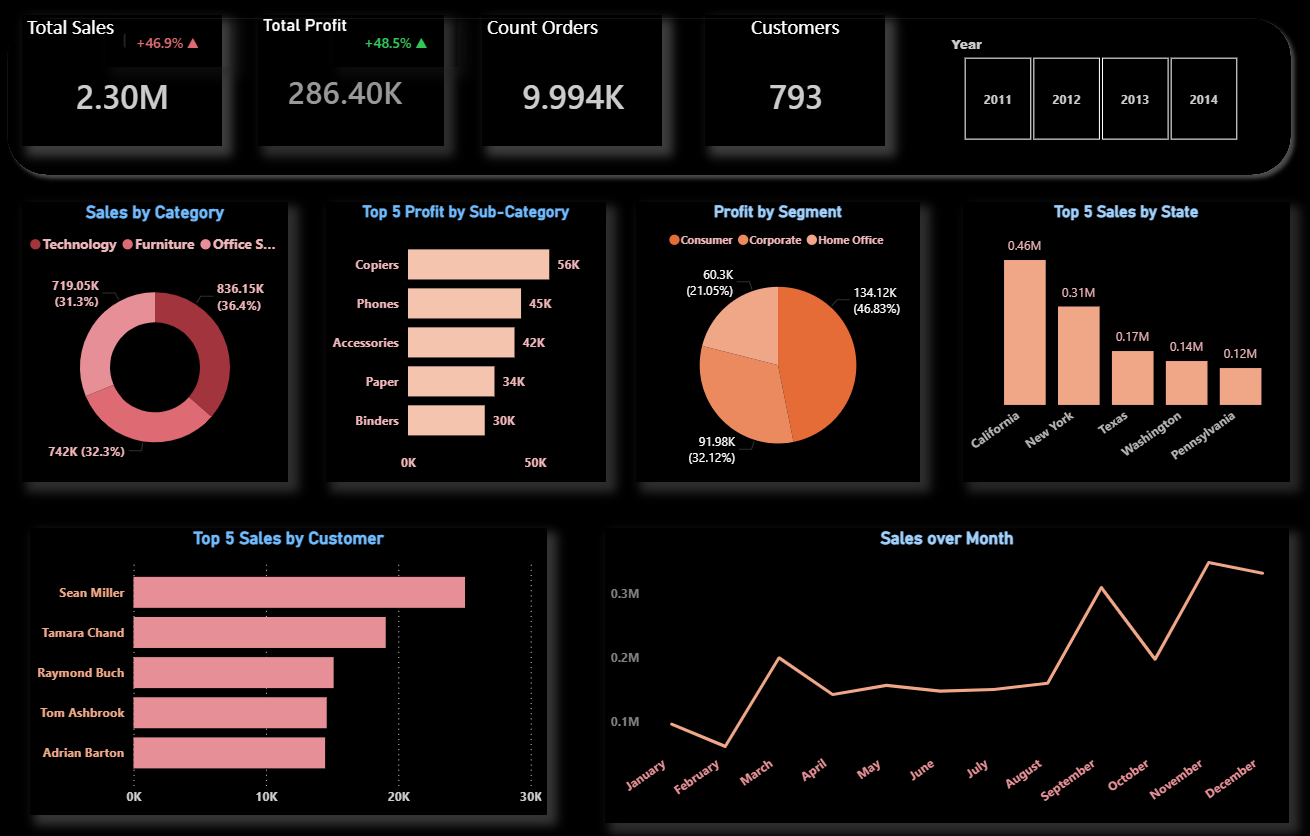

The dashboard page shown, as its layout file describes it:
{"tool":"powerbi","page":{"name":"Page 1","canvas":[1283,823],"ordinal":0},"visuals":[{"type":"shape","box":[0,13.5,1270.7,170.9],"z":0},{"type":"slicer","fields":{"Values":["Data.Date.Variation.Date Hierarchy.Year"]},"box":[917.5,35.2,315.9,112.9],"z":1001},{"type":"cardVisual","title":"Total Sales","fields":{"Data":["Superstore.Total Sales"]},"box":[23.8,19.7,194.7,128.4],"z":2001},{"type":"cardVisual","fields":{"Data":["Superstore.YOY Display"]},"box":[105.6,19.7,124.3,50.7],"z":2002},{"type":"cardVisual","title":"Total  Profit","fields":{"Data":["Sum(Superstore.Profit)"]},"box":[253.7,19.7,181.2,128.4],"z":2003},{"type":"cardVisual","fields":{"Data":["Superstore.YOY % Profit"]},"box":[327.2,19.7,122.2,50.7],"z":2004},{"type":"cardVisual","title":"Count Orders","fields":{"Data":["CountNonNull(Superstore.Order ID)"]},"box":[472.2,19.7,176.1,128.4],"z":2005},{"type":"cardVisual","title":"Customers","fields":{"Data":["Count(Superstore.Customer Name)"]},"box":[689.7,19.7,176.1,128.4],"z":2006},{"type":"lineChart","title":"Sales over Month","fields":{"Category":["Data.Date.Variation.Date Hierarchy.Month"],"Y":["Sum(Superstore.Sales)"]},"box":[592.7,520.1,667.5,287.5],"z":2007},{"type":"columnChart","title":"Top 5 Sales by State","fields":{"Category":["Superstore.State"],"Y":["Sum(Superstore.Sales)"]},"box":[941.5,202.4,318.7,273],"z":2008},{"type":"pieChart","title":"Profit by Segment","fields":{"Y":["Sum(Superstore.Profit)"],"Category":["Superstore.Segment"]},"box":[622.8,202.4,277.2,273],"z":2009},{"type":"barChart","title":"Top 5 Sales by Customer","fields":{"Category":["Superstore.Customer Name"],"Y":["Sum(Superstore.Sales)"]},"box":[31.1,520.1,504.5,280.3],"z":2010},{"type":"donutChart","title":"Sales by Category","fields":{"Category":["Superstore.Category"],"Y":["Superstore.Total Sales"]},"box":[23.9,202.4,259.5,273],"z":2011},{"type":"barChart","title":"Top 5 Profit by Sub-Category","fields":{"Category":["Superstore.Sub-Category"],"Y":["Sum(Superstore.Profit)"]},"box":[319.7,202.4,273,273],"z":2012}]}

Visuals, with their boxes in screenshot pixels (x1, y1, x2, y2), scaled from the page's 1283x823 canvas onto the 1310x836 screenshot:
shape: bbox(0, 14, 1297, 187)
slicer - Data.Date.Variation.Date Hierarchy.Year: bbox(937, 36, 1259, 150)
"Total Sales" cardVisual: bbox(24, 20, 223, 150)
cardVisual - Superstore.YOY Display: bbox(108, 20, 235, 72)
"Total  Profit" cardVisual: bbox(259, 20, 444, 150)
cardVisual - Superstore.YOY % Profit: bbox(334, 20, 459, 72)
"Count Orders" cardVisual: bbox(482, 20, 662, 150)
"Customers" cardVisual: bbox(704, 20, 884, 150)
"Sales over Month" lineChart: bbox(605, 528, 1287, 820)
"Top 5 Sales by State" columnChart: bbox(961, 206, 1287, 483)
"Profit by Segment" pieChart: bbox(636, 206, 919, 483)
"Top 5 Sales by Customer" barChart: bbox(32, 528, 547, 813)
"Sales by Category" donutChart: bbox(24, 206, 289, 483)
"Top 5 Profit by Sub-Category" barChart: bbox(326, 206, 605, 483)
